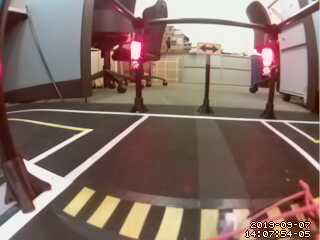Left_Right_sign: (197, 40, 224, 54)
Traffic_light_red: (262, 47, 275, 74), (132, 41, 141, 65)
